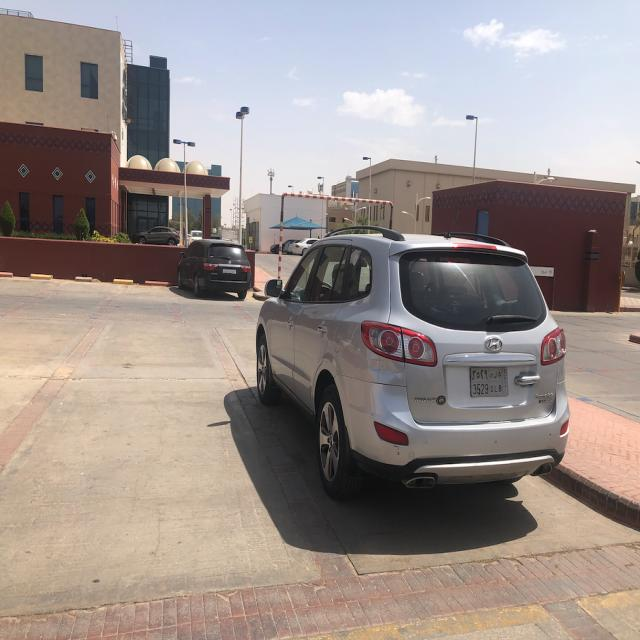license_plate: (471, 367, 506, 395), (222, 269, 236, 274)
